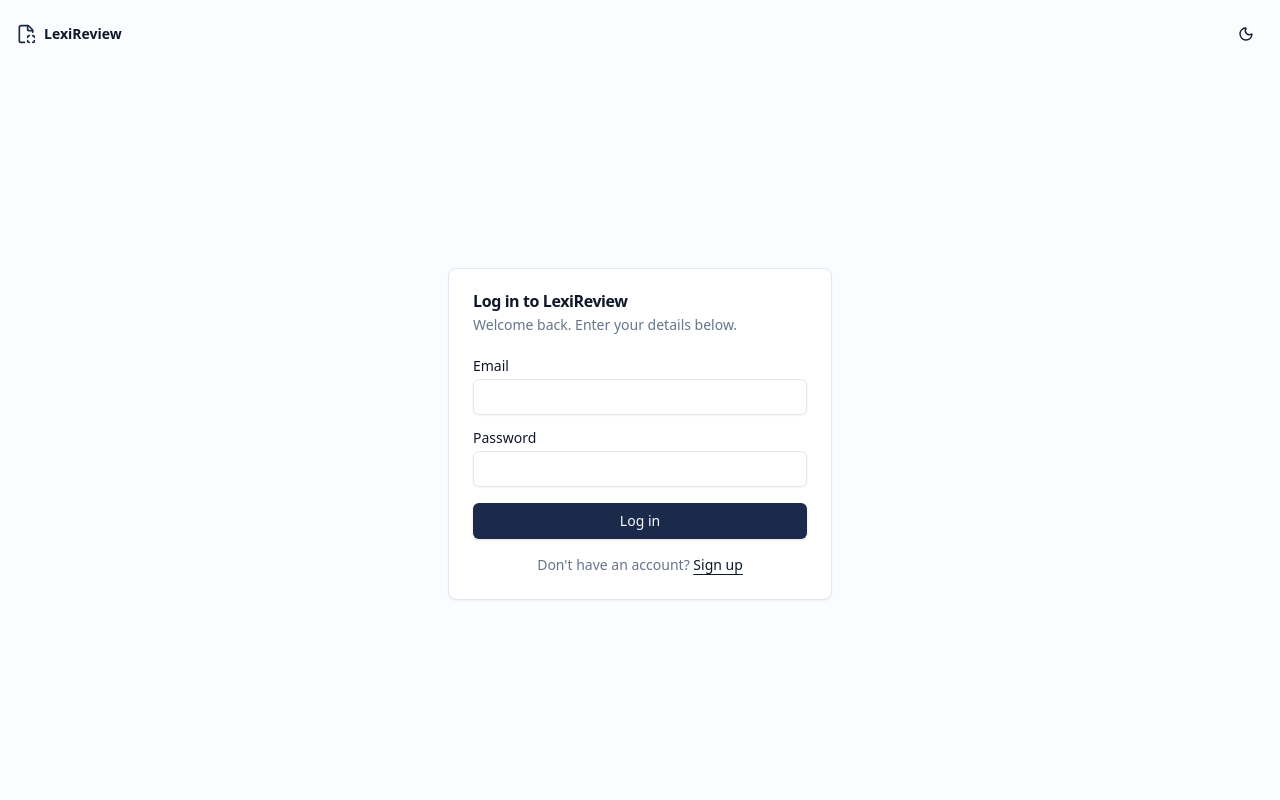
LoginPage › transitions to the MFA challenge step when login returns mfa_required
In the field labelled "Email": (640, 397) [473,379,807,415], type "alice@example.com"
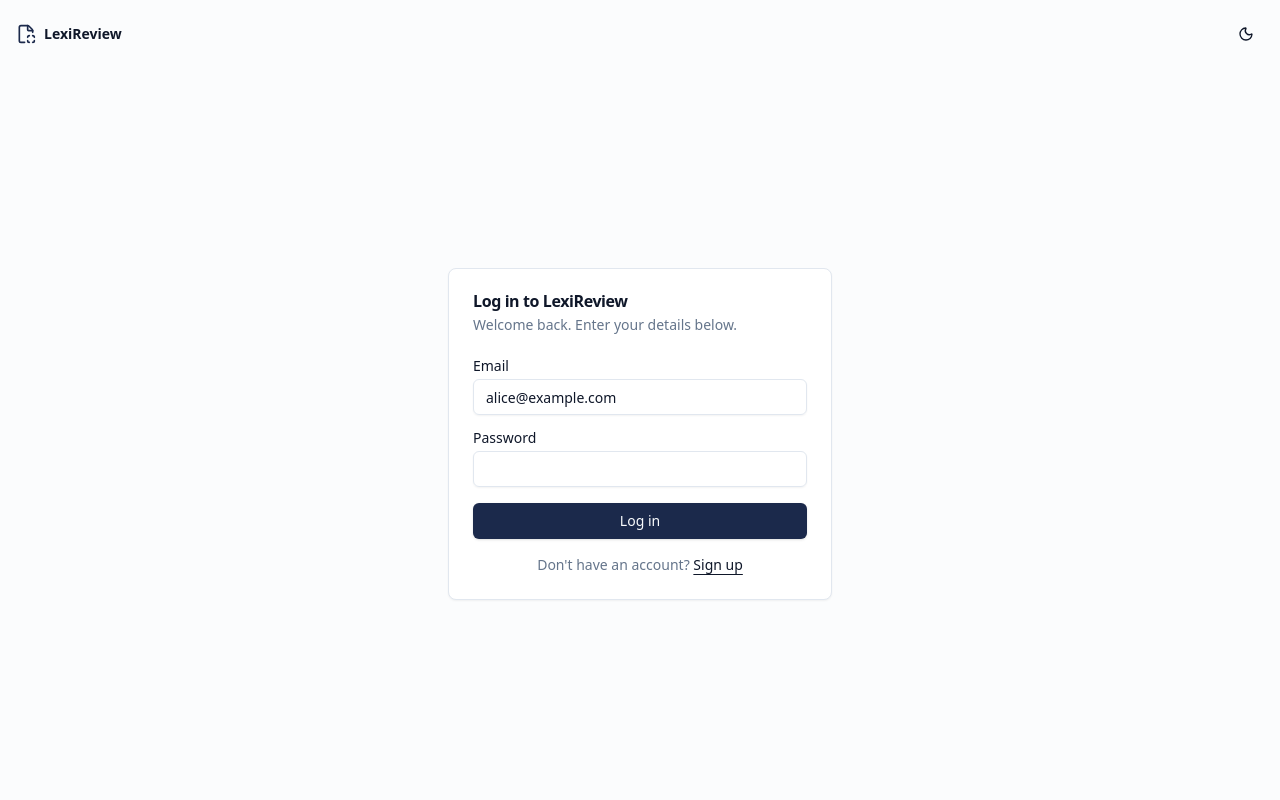
In the password field labelled "Password": (640, 469) [473,451,807,487], type "hunter2222"
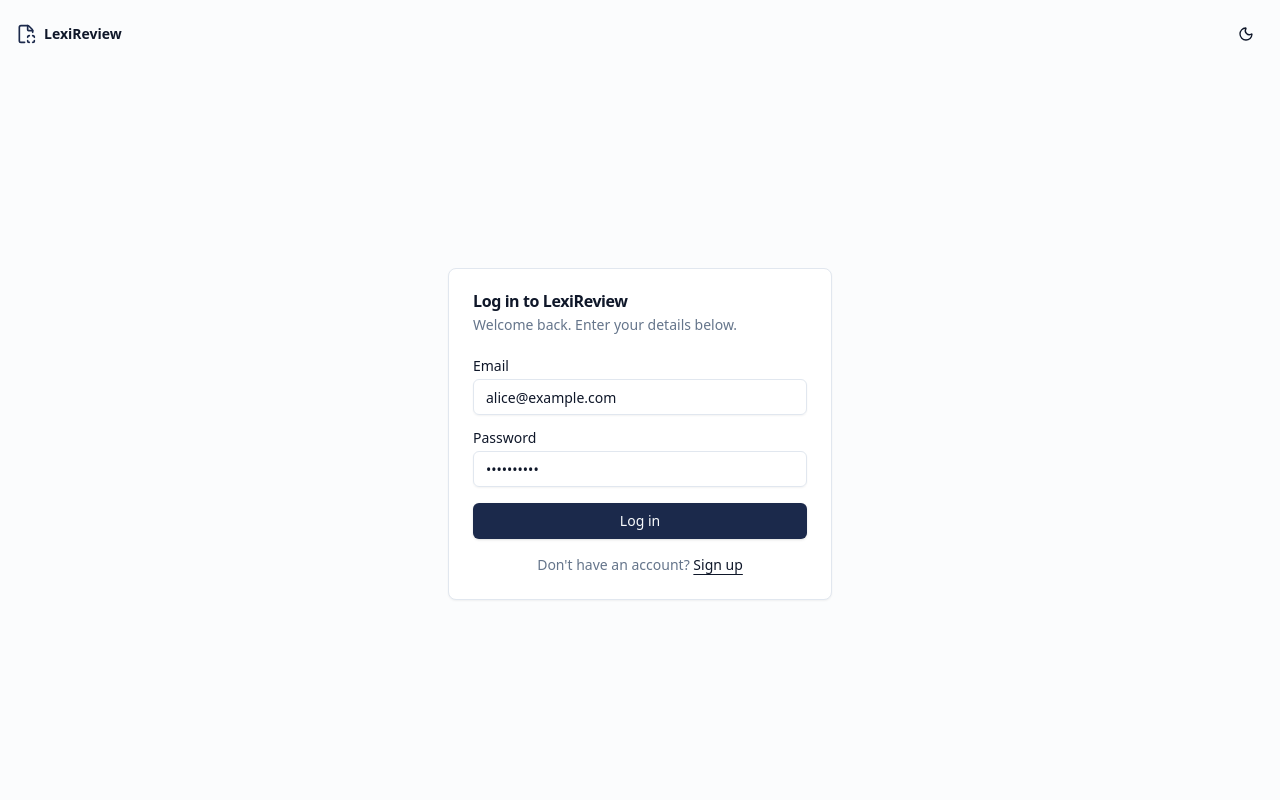
Click the button "Log in": click(640, 521) [473,503,807,539]
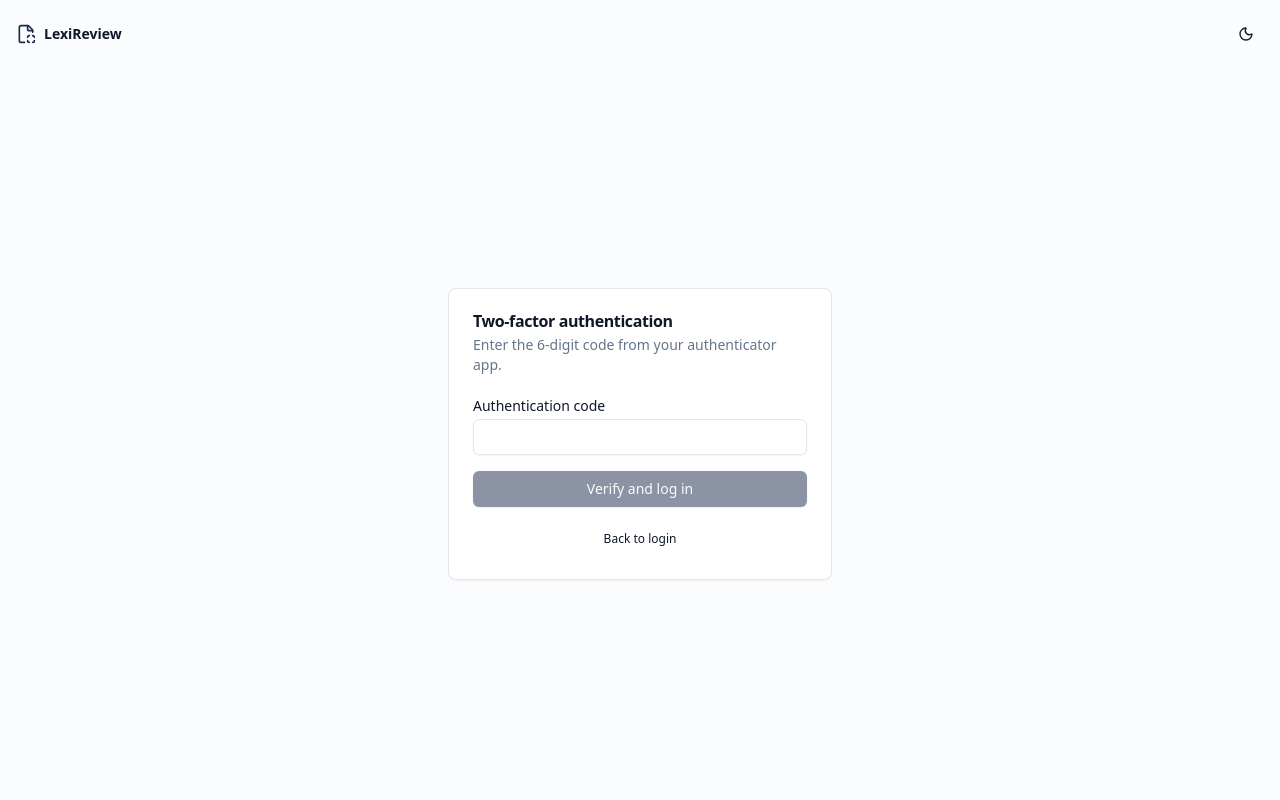
Expected: the field labelled "Authentication code" is shown, [473,419,807,455]
Now the text "Two-factor authentication" is shown, box [473,310,673,332]
Now the label labelled "Email" is gone
